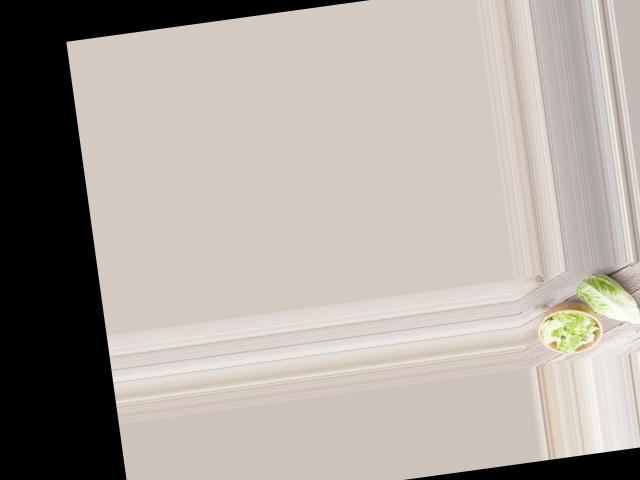lettuce: (574, 267, 640, 331)
